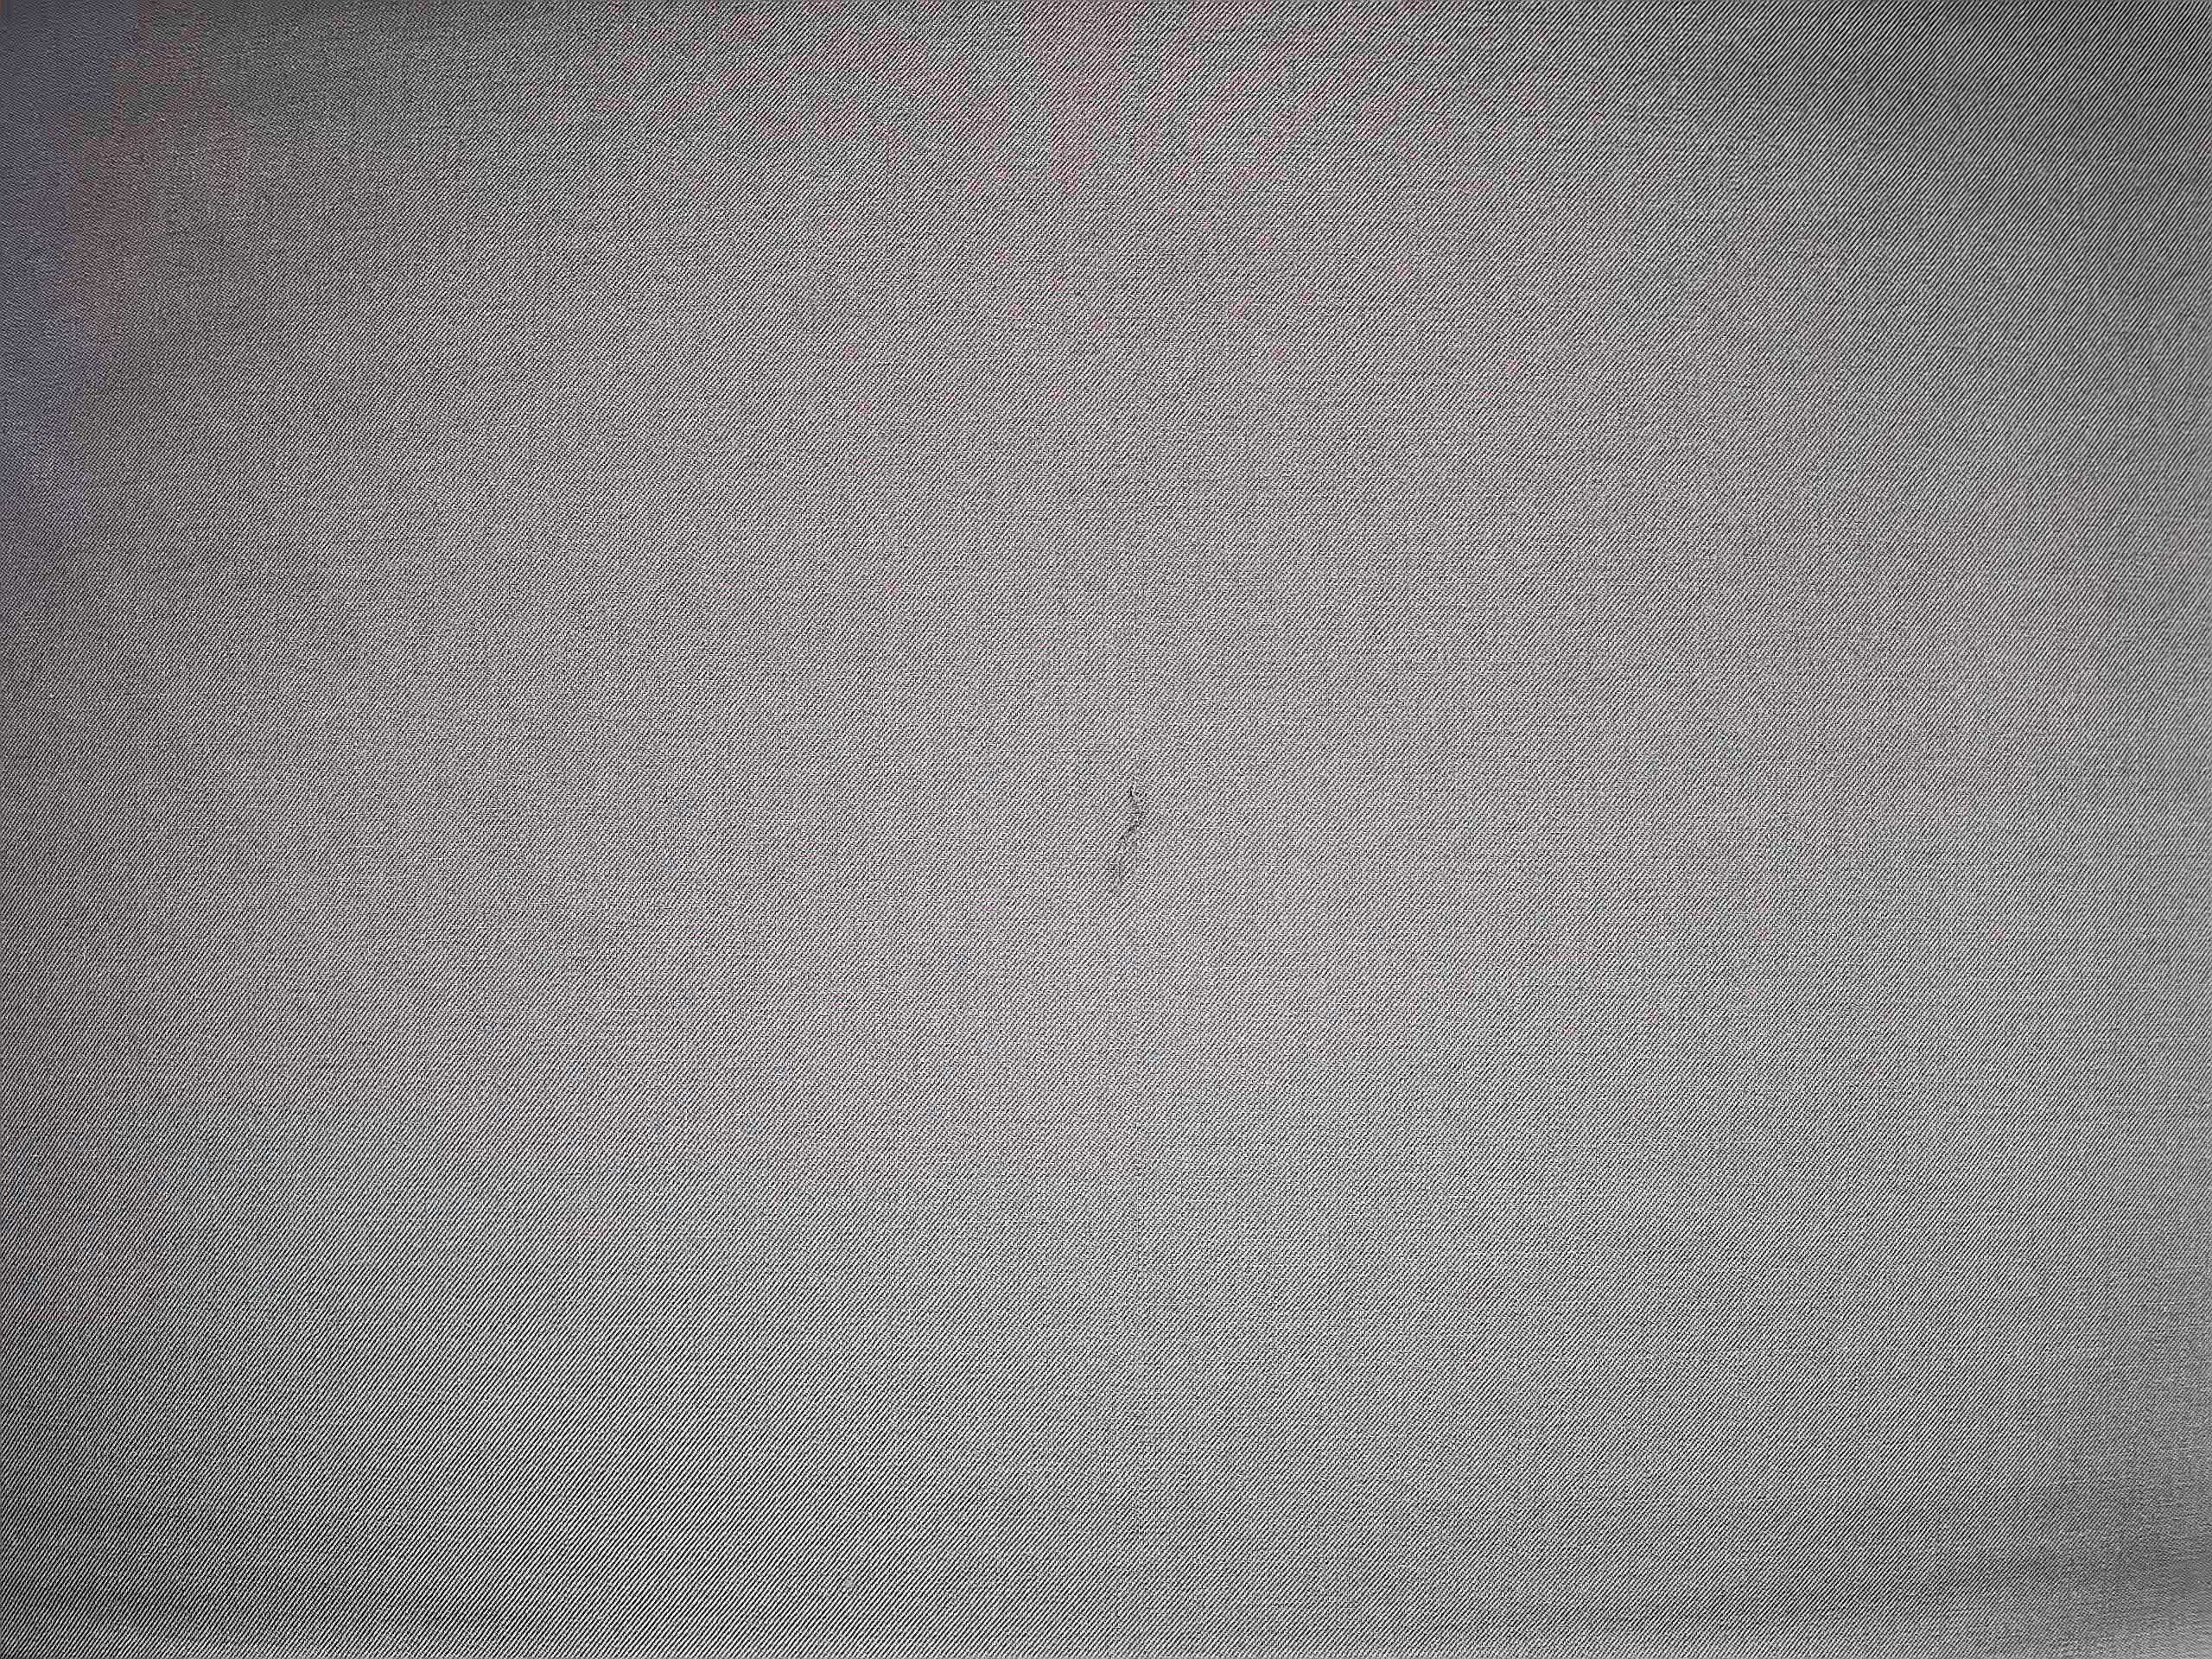hanging-warp: (1103, 584, 1158, 931)
